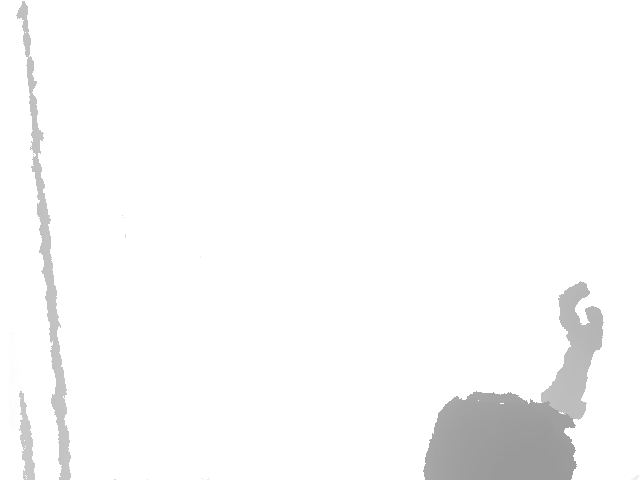hand: (557, 281, 605, 351)
head: (423, 392, 578, 480)
person: (422, 281, 605, 480)
